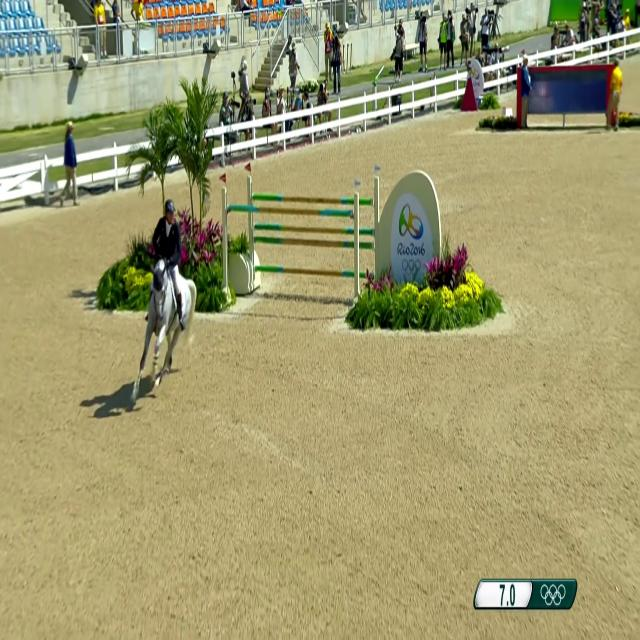Horse Running: (124, 206, 210, 422)
